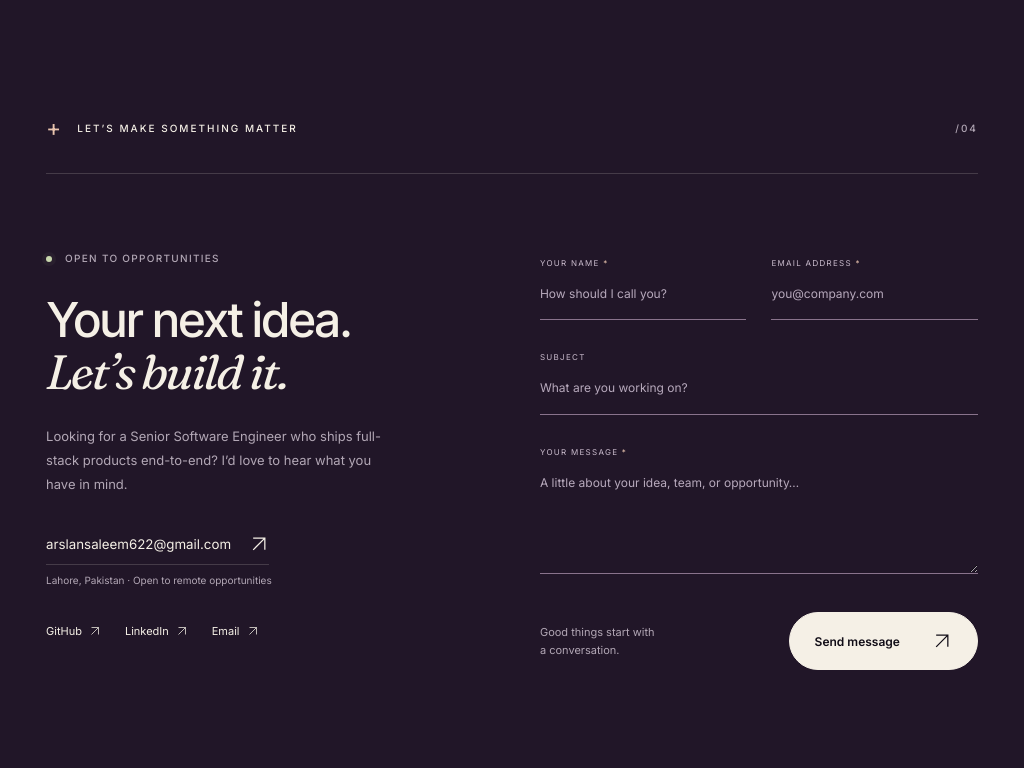
retains the message and restores the submit button when delivery fails
This screenshot has width=1024, height=768.
In the text box named "message": {"x": 759, "y": 523} [540,472,978,574], type "Keep my message"
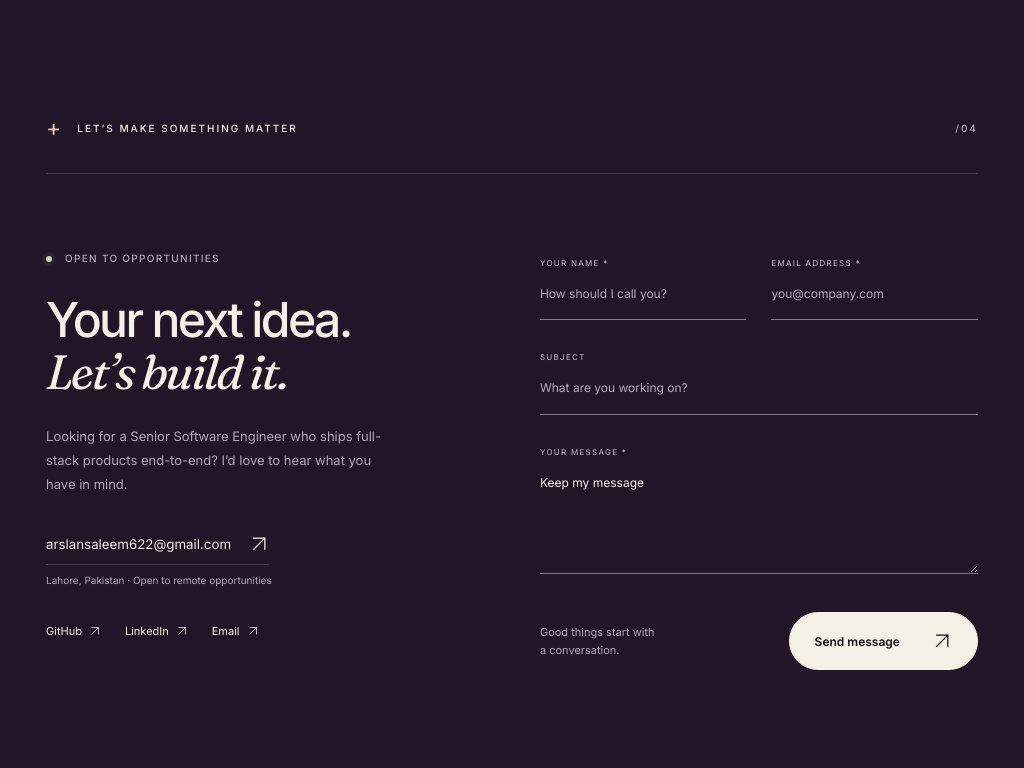
Submit the form, box [540,258,978,670]
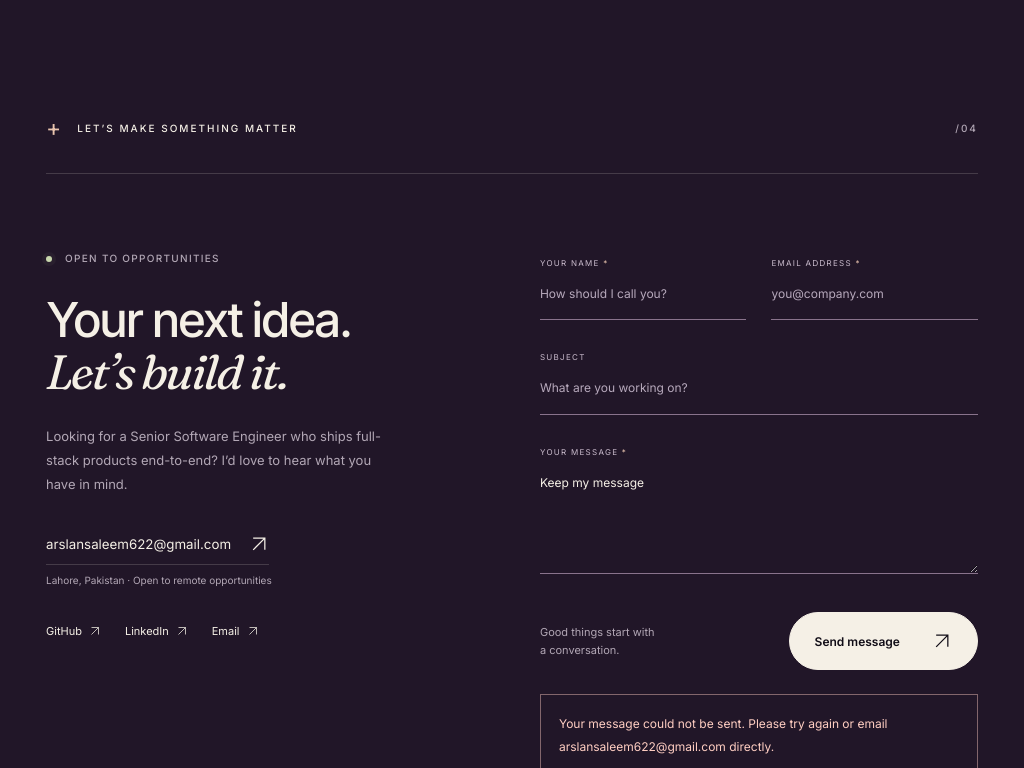
Expected: the submit button is enabled, [789,612,978,670]
Expected: the message shows "could not be sent", [559,716,888,754]
